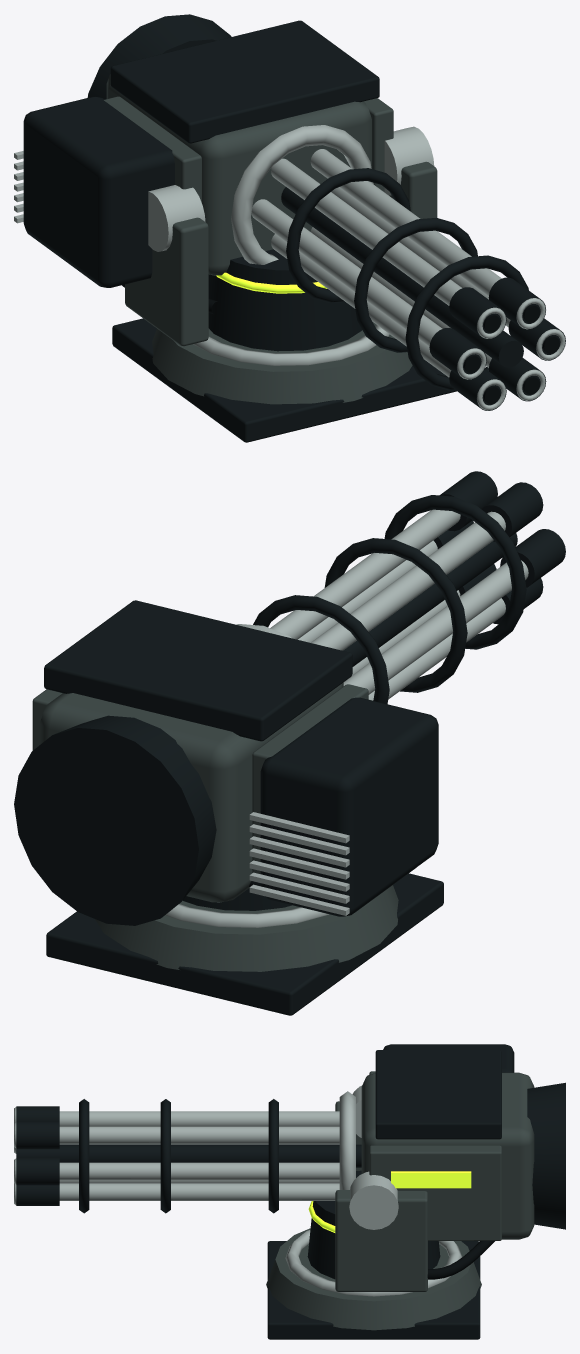
File: rotary-cannon-lod1.glb
3 renders of one model, top to bottom at view 1: azimuth 30°, elevation 25°; view 2: azimuth 150°, elevation 25°; view 3: azimuth 270°, elevation 25°, orthographic. The views are drawn at different scales.
Visible parts, largest first — view 1: feed__Recessed_carbon_mechanism, armor__Recessed_carbon_mechanism, rotary-barrels__Machined_titanium, mount__Cerakote_graphite_armor, receiver__Cerakote_graphite_armor, yaw-drive__Recessed_carbon_mechanism, barrel-clamp__Recessed_carbon_mechanism, cradle__Cerakote_graphite_armor, mount__Recessed_carbon_mechanism, muzzle-brakes__Recessed_carbon_mechanism, barrel-clamp__Machined_titanium, rotary-barrels__Recessed_carbon_mechanism (+8 smaller); view 2: receiver__Recessed_carbon_mechanism, feed__Recessed_carbon_mechanism, armor__Recessed_carbon_mechanism, rotary-barrels__Machined_titanium, mount__Cerakote_graphite_armor, mount__Recessed_carbon_mechanism, receiver__Cerakote_graphite_armor, barrel-clamp__Recessed_carbon_mechanism, feed__Machined_titanium, muzzle-brakes__Recessed_carbon_mechanism, armor__Cerakote_graphite_armor, rotary-barrels__Recessed_carbon_mechanism (+2 smaller); view 3: rotary-barrels__Machined_titanium, armor__Recessed_carbon_mechanism, mount__Cerakote_graphite_armor, armor__Cerakote_graphite_armor, cradle__Cerakote_graphite_armor, receiver__Cerakote_graphite_armor, rotary-barrels__Recessed_carbon_mechanism, mount__Recessed_carbon_mechanism, receiver__Recessed_carbon_mechanism, muzzle-brakes__Recessed_carbon_mechanism, barrel-clamp__Recessed_carbon_mechanism, trunnion__Machined_titanium (+6 smaller).
Boxes of the visible parts, <box> form: feed__Recessed_carbon_mechanism: <box>23,97,174,287</box>; armor__Recessed_carbon_mechanism: <box>110,20,379,143</box>; rotary-barrels__Machined_titanium: <box>251,149,510,377</box>; mount__Cerakote_graphite_armor: <box>152,322,412,404</box>; receiver__Cerakote_graphite_armor: <box>106,74,371,275</box>; yaw-drive__Recessed_carbon_mechanism: <box>208,249,362,351</box>; barrel-clamp__Recessed_carbon_mechanism: <box>286,168,528,390</box>; cradle__Cerakote_graphite_armor: <box>125,161,437,346</box>; mount__Recessed_carbon_mechanism: <box>112,318,456,442</box>; muzzle-brakes__Recessed_carbon_mechanism: <box>429,277,565,410</box>; barrel-clamp__Machined_titanium: <box>231,125,373,264</box>; rotary-barrels__Recessed_carbon_mechanism: <box>281,187,523,367</box>; receiver__Recessed_carbon_mechanism: <box>14,715,216,925</box>; feed__Recessed_carbon_mechanism: <box>260,697,438,916</box>; armor__Recessed_carbon_mechanism: <box>44,600,352,741</box>; rotary-barrels__Machined_titanium: <box>270,509,528,700</box>; mount__Cerakote_graphite_armor: <box>95,885,398,971</box>; mount__Recessed_carbon_mechanism: <box>46,873,443,1015</box>; receiver__Cerakote_graphite_armor: <box>39,682,343,902</box>; barrel-clamp__Recessed_carbon_mechanism: <box>253,495,526,704</box>; feed__Machined_titanium: <box>249,812,349,915</box>; muzzle-brakes__Recessed_carbon_mechanism: <box>433,471,565,624</box>; armor__Cerakote_graphite_armor: <box>32,684,368,873</box>; rotary-barrels__Recessed_carbon_mechanism: <box>343,533,517,666</box>; rotary-barrels__Machined_titanium: <box>59,1111,339,1200</box>; armor__Recessed_carbon_mechanism: <box>375,1050,501,1139</box>; mount__Cerakote_graphite_armor: <box>266,1228,481,1330</box>; armor__Cerakote_graphite_armor: <box>369,1071,501,1240</box>; cradle__Cerakote_graphite_armor: <box>335,1101,427,1291</box>; receiver__Cerakote_graphite_armor: <box>361,1072,534,1239</box>; rotary-barrels__Recessed_carbon_mechanism: <box>16,1144,361,1167</box>; mount__Recessed_carbon_mechanism: <box>267,1241,480,1339</box>; receiver__Recessed_carbon_mechanism: <box>527,1082,565,1229</box>; muzzle-brakes__Recessed_carbon_mechanism: <box>16,1106,59,1205</box>; barrel-clamp__Recessed_carbon_mechanism: <box>79,1099,278,1213</box>; trunnion__Machined_titanium: <box>349,1085,398,1229</box>.
Bounding box in the file's own units: 1.86 × 1.52 × 3.58.
